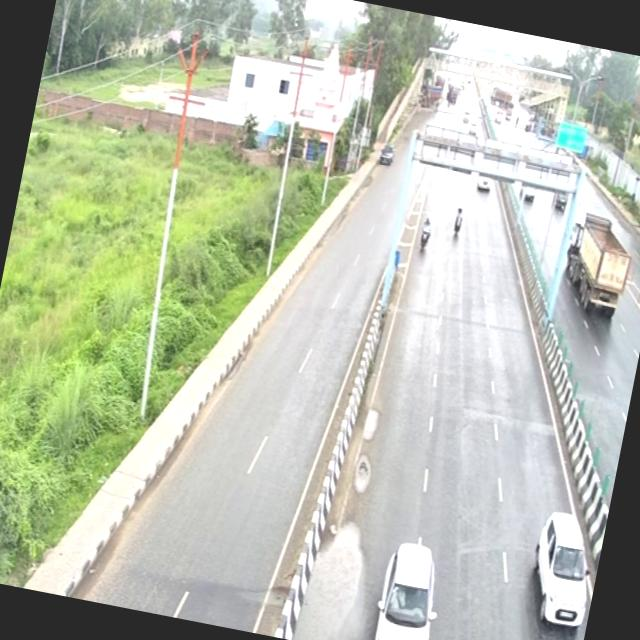car: (518, 504, 607, 635), (367, 531, 455, 640)
